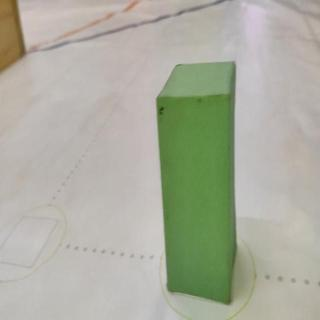greenbox: (155, 60, 238, 306)
